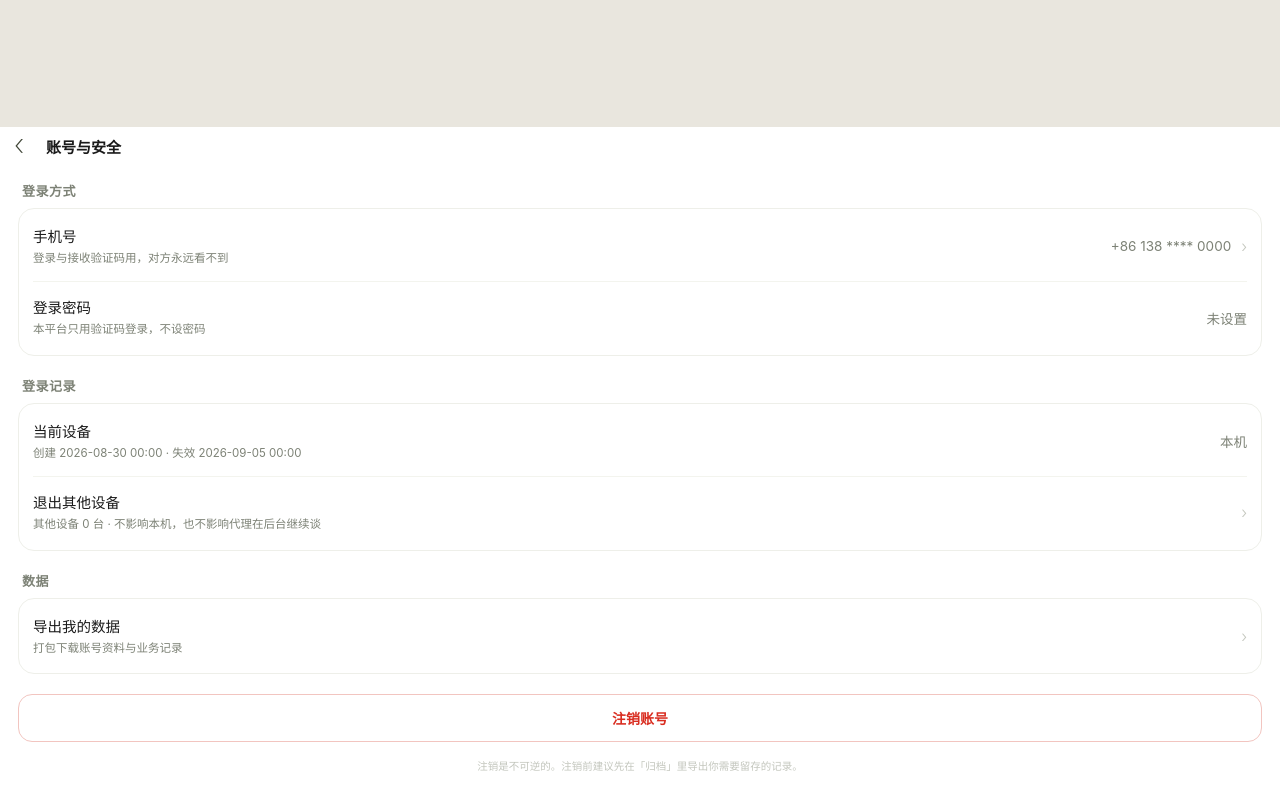
Scenario: 账号安全 · Backend 数据导出与注销 › 创建冲突（跨设备 409）：固定跨设备文案上屏，抽屉与重试入口保留
(page scrolled)
Click the button "导出我的数据": click(76, 626) [33,601,1247,671]
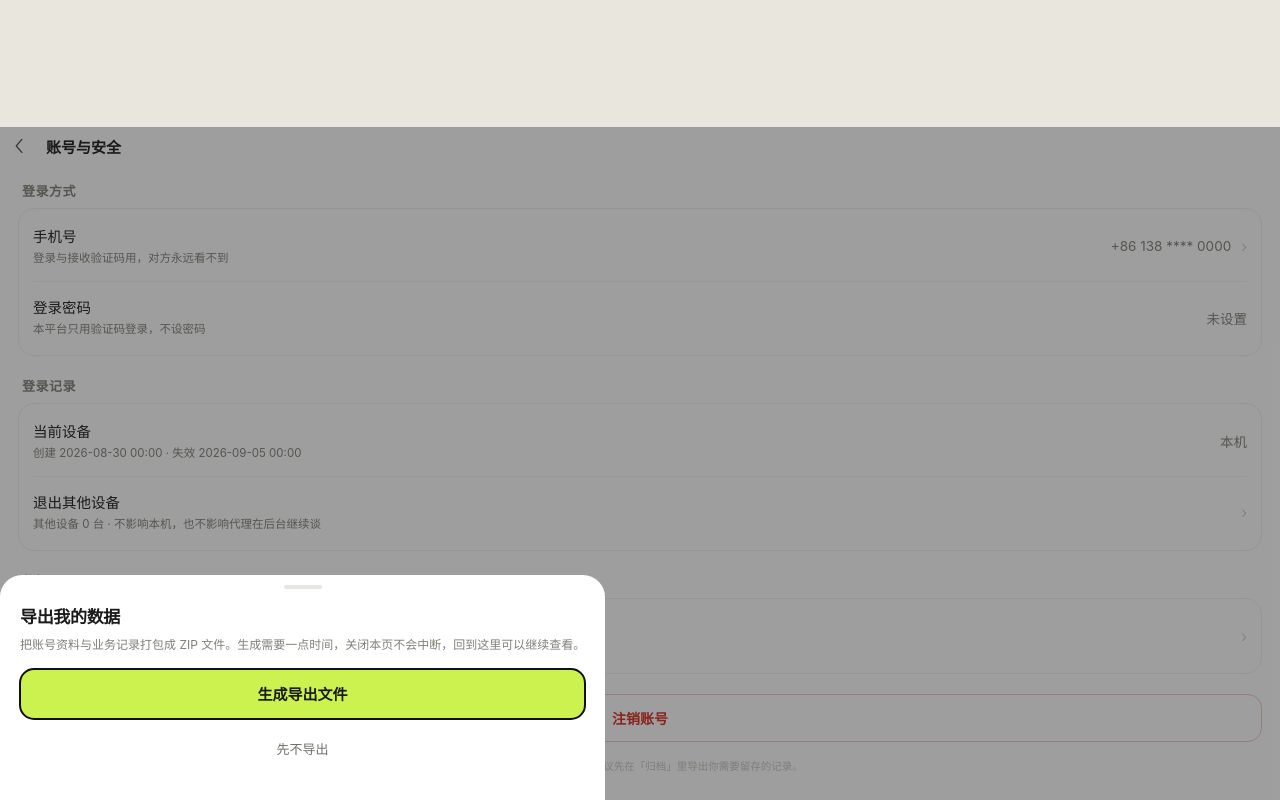
Click the button "生成导出文件": click(303, 694) [20,669,585,719]
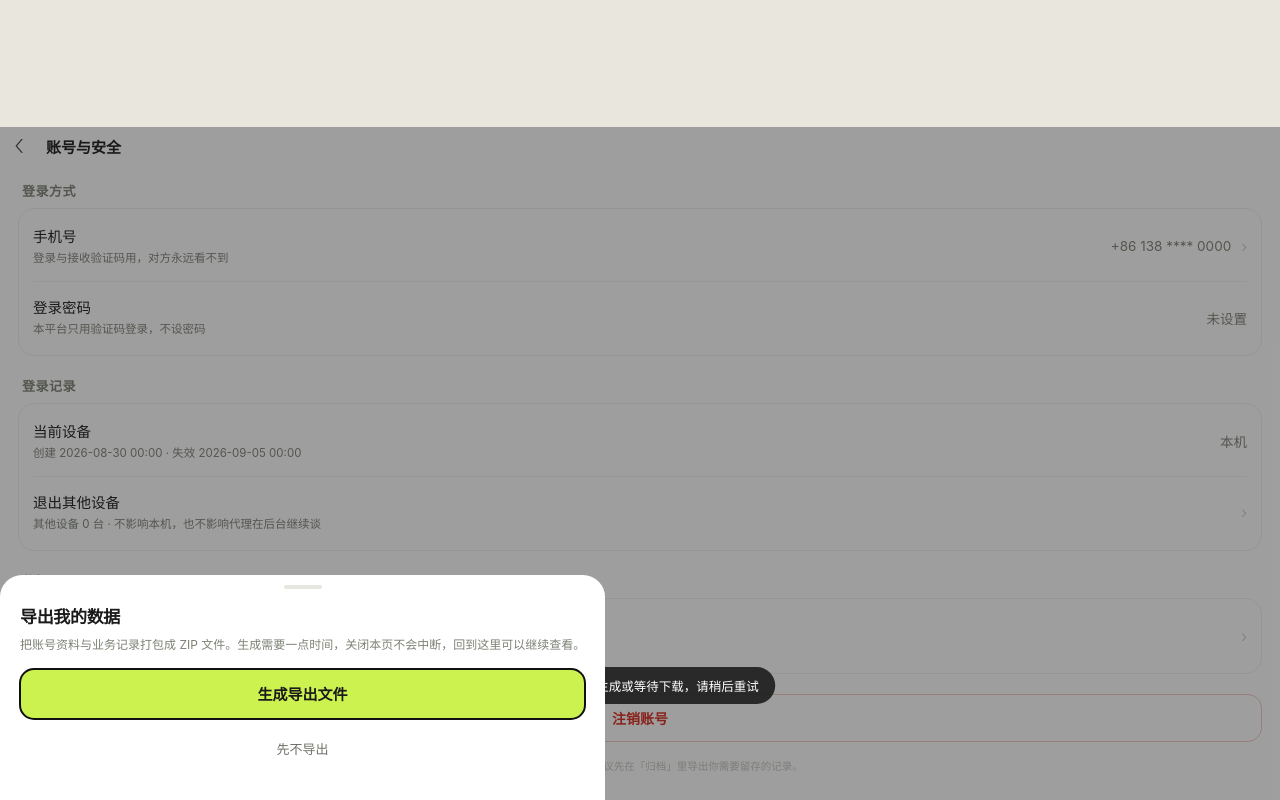
Expected: the button "生成导出文件" is shown, [20,669,585,719]
Expected: the text "已有导出正在生成或等待下载，请稍后重试" is shown, [505,667,775,704]
